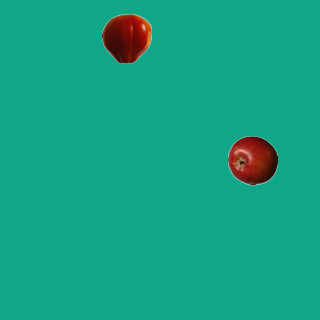Apple Braeburn: (227, 135, 277, 185)
Tomato 1: (101, 13, 151, 63)
